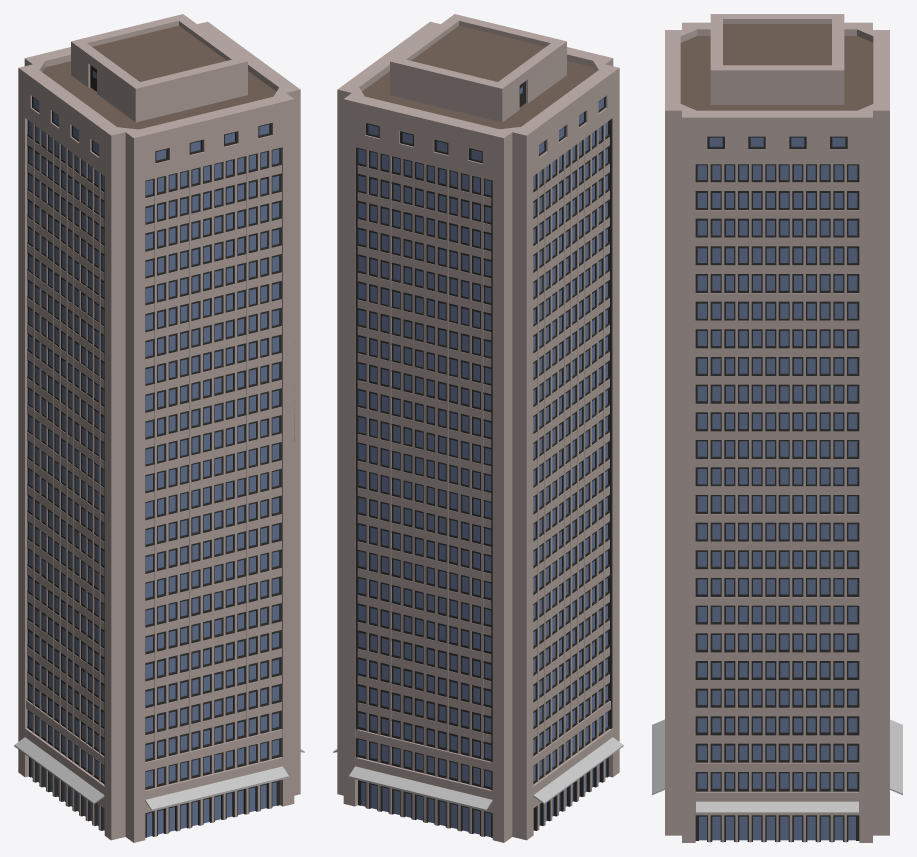
The model's file is LargeBuilding_15.fbx.
3 renders of one model, left to right at view 1: azimuth 30°, elevation 25°; view 2: azimuth 150°, elevation 25°; view 3: azimuth 270°, elevation 25°, orthographic. The views are drawn at different scales.
Visible parts, largest first — view 1: LargeBuilding_15; view 2: LargeBuilding_15; view 3: LargeBuilding_15.
Part boxes in pixels (x1=…): LargeBuilding_15: x1=14, y1=14, x2=304, y2=842; LargeBuilding_15: x1=333, y1=14, x2=623, y2=842; LargeBuilding_15: x1=652, y1=14, x2=902, y2=842.
Bounding box in the file's own units: 24.09 × 79.86 × 24.09.
